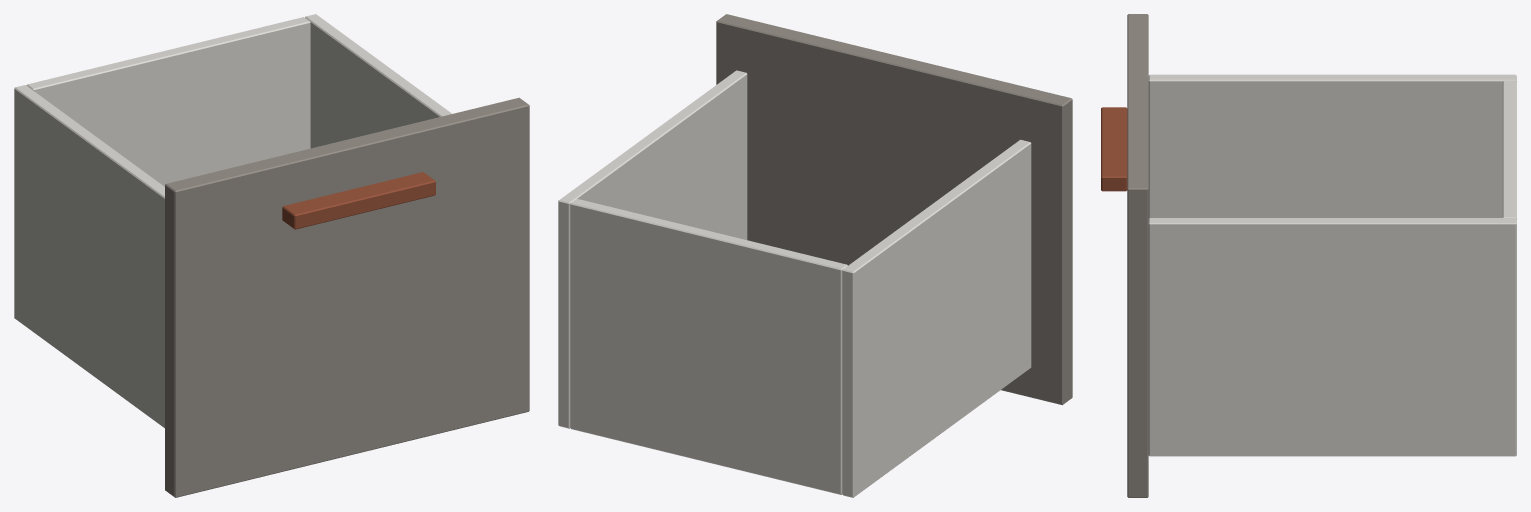
Rendered from low_cabinet_two_drawers_left_drawer.glb.
3 views of the same model, side by side, from view 1: azimuth 30°, elevation 25°; view 2: azimuth 150°, elevation 25°; view 3: azimuth 270°, elevation 25° (orthographic). The views are drawn at different scales.
Visible parts, largest first — view 1: low_cabinet_two_drawers_left_drawer.001; view 2: low_cabinet_two_drawers_left_drawer.001; view 3: low_cabinet_two_drawers_left_drawer.001.
Part boxes in pixels (<box>): low_cabinet_two_drawers_left_drawer.001: <box>14,14,529,497</box>; low_cabinet_two_drawers_left_drawer.001: <box>558,14,1072,497</box>; low_cabinet_two_drawers_left_drawer.001: <box>1101,14,1516,497</box>.
Size of the model in its own units: 0.3485 by 0.288 by 0.35.
